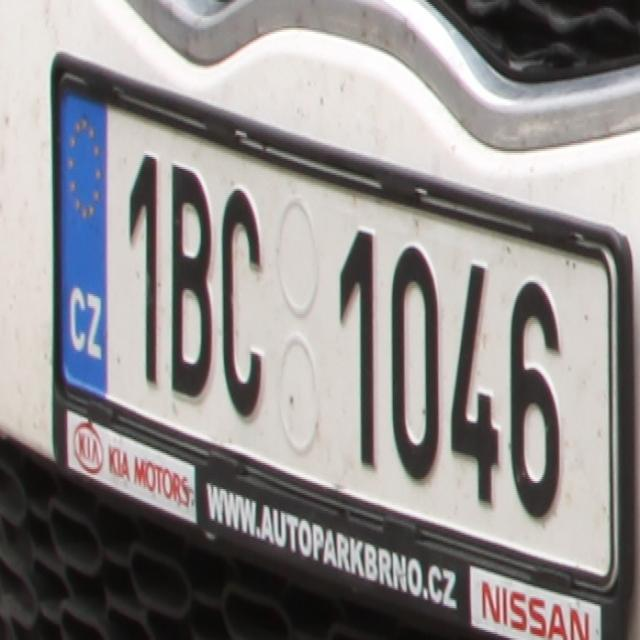0: (388, 242, 440, 483)
1: (338, 225, 379, 477), (125, 151, 162, 380)
4: (451, 258, 502, 507)
6: (508, 278, 563, 521)
B: (165, 161, 214, 399)
C: (218, 187, 264, 417)
